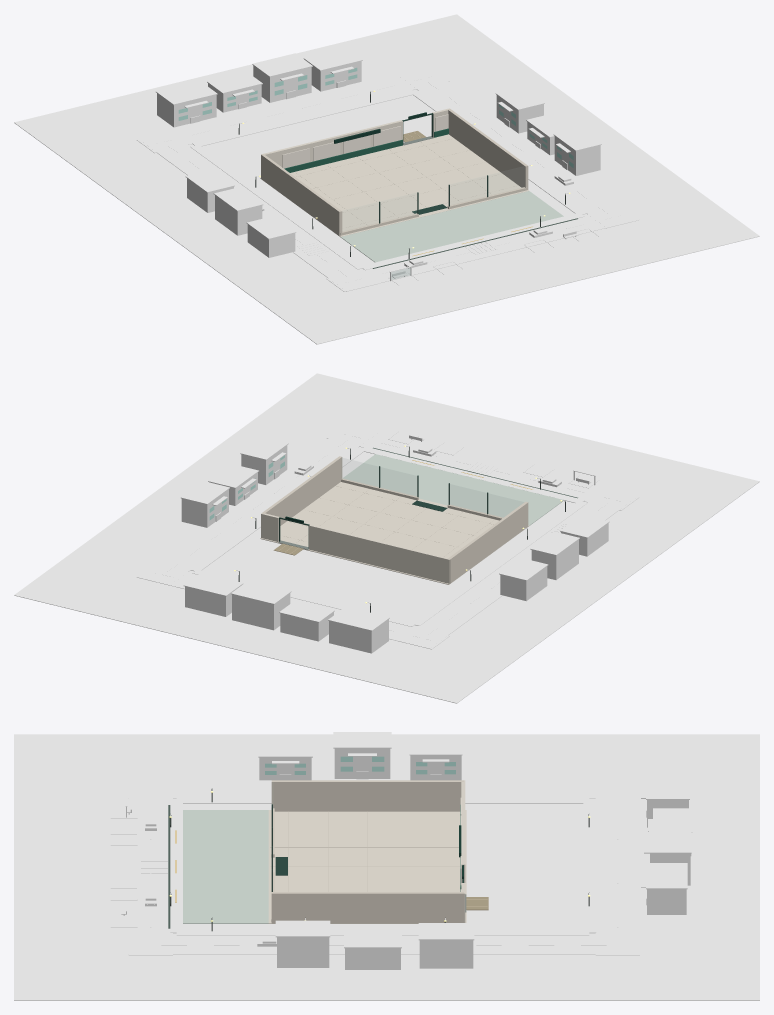
The model's file is level30-shell.glb.
3 views of the same model, one above another, from view 1: azimuth 30°, elevation 25°; view 2: azimuth 150°, elevation 25°; view 3: azimuth 270°, elevation 25° (orthographic). The views are drawn at different scales.
Visible parts, largest first — view 1: cell:0:-1, cell:3:-1, cell:0:2, cell:0:3, cell:0:-2, cell:0:-5, cell:-4:-1, cell:0:-6, cell:-3:-6, cell:3:1, cell:-4:1, cell:-4:0 (+8 smaller); view 2: cell:0:-1, cell:3:-1, cell:0:2, cell:0:3, cell:0:-2, cell:-4:-1, cell:-3:-6, cell:0:-6, cell:1:-6, cell:3:-2, cell:3:1, cell:-1:-6 (+8 smaller); view 3: cell:0:-1, cell:0:2, cell:3:-1, cell:0:3, cell:0:-5, cell:-4:-1, cell:3:1, cell:3:-2, cell:-4:0, cell:-4:1, cell:1:-6, cell:-4:-2 (+8 smaller).
Part boxes in pixels (bbox=[...]): cell:0:-1: bbox=[14, 14, 759, 344]; cell:3:-1: bbox=[399, 68, 637, 228]; cell:0:2: bbox=[340, 191, 563, 262]; cell:0:3: bbox=[326, 206, 639, 291]; cell:0:-2: bbox=[178, 67, 573, 178]; cell:0:-5: bbox=[137, 68, 449, 153]; cell:-4:-1: bbox=[139, 131, 377, 291]; cell:0:-6: bbox=[252, 53, 312, 102]; cell:-3:-6: bbox=[155, 80, 217, 127]; cell:3:1: bbox=[553, 128, 601, 185]; cell:-4:1: bbox=[246, 216, 325, 257]; cell:-4:0: bbox=[213, 187, 263, 235]; cell:0:-1: bbox=[14, 373, 759, 703]; cell:3:-1: bbox=[139, 425, 377, 585]; cell:0:2: bbox=[343, 454, 564, 525]; cell:0:3: bbox=[326, 425, 639, 510]; cell:0:-2: bbox=[209, 455, 449, 583]; cell:-4:-1: bbox=[399, 489, 637, 648]; cell:-3:-6: bbox=[328, 607, 389, 653]; cell:0:-6: bbox=[231, 580, 291, 630]; cell:1:-6: bbox=[183, 573, 243, 616]; cell:3:-2: bbox=[180, 481, 241, 527]; cell:3:1: bbox=[240, 437, 313, 484]; cell:-1:-6: bbox=[279, 600, 334, 641]; cell:0:-1: bbox=[14, 734, 759, 1000]; cell:0:2: bbox=[183, 810, 268, 923]; cell:3:-1: bbox=[128, 930, 639, 969]; cell:0:3: bbox=[128, 778, 182, 955]; cell:0:-5: bbox=[595, 778, 649, 955]; cell:-4:-1: bbox=[128, 779, 639, 798]; cell:3:1: bbox=[257, 920, 330, 967]; cell:3:-2: bbox=[418, 923, 474, 968]; cell:-4:0: bbox=[333, 732, 391, 779]; cell:-4:1: bbox=[246, 740, 312, 795]; cell:1:-6: bbox=[646, 863, 687, 914]; cell:-4:-2: bbox=[409, 738, 462, 780].
Bounding box in the file's own units: 324 × 19.59 × 384.
Materials: 2 (2 with a texture image).
